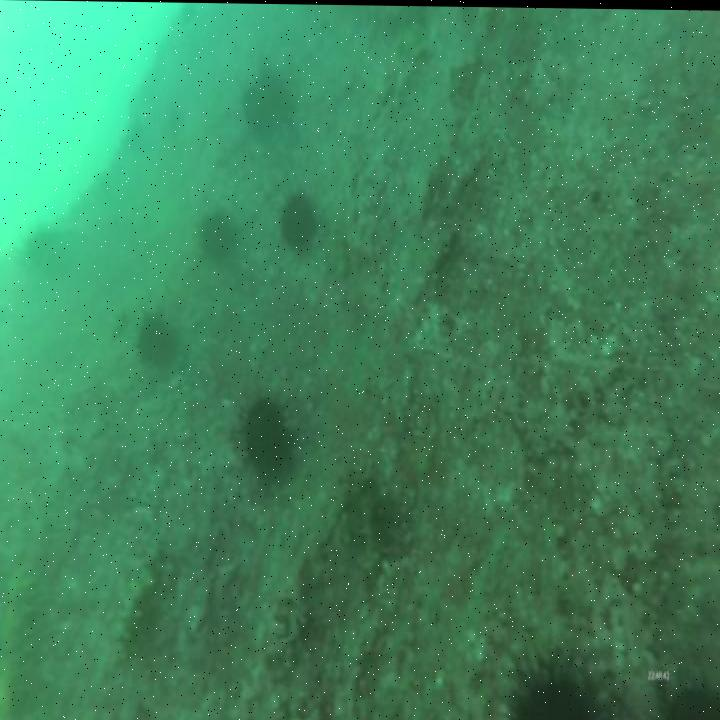echinus: (499, 642, 622, 720), (236, 385, 301, 496), (644, 665, 720, 720), (132, 306, 181, 379), (277, 186, 323, 258), (193, 205, 239, 275), (240, 78, 284, 146)
holothurian: (111, 554, 162, 676), (0, 554, 37, 720)
scallop: (22, 217, 61, 271)
